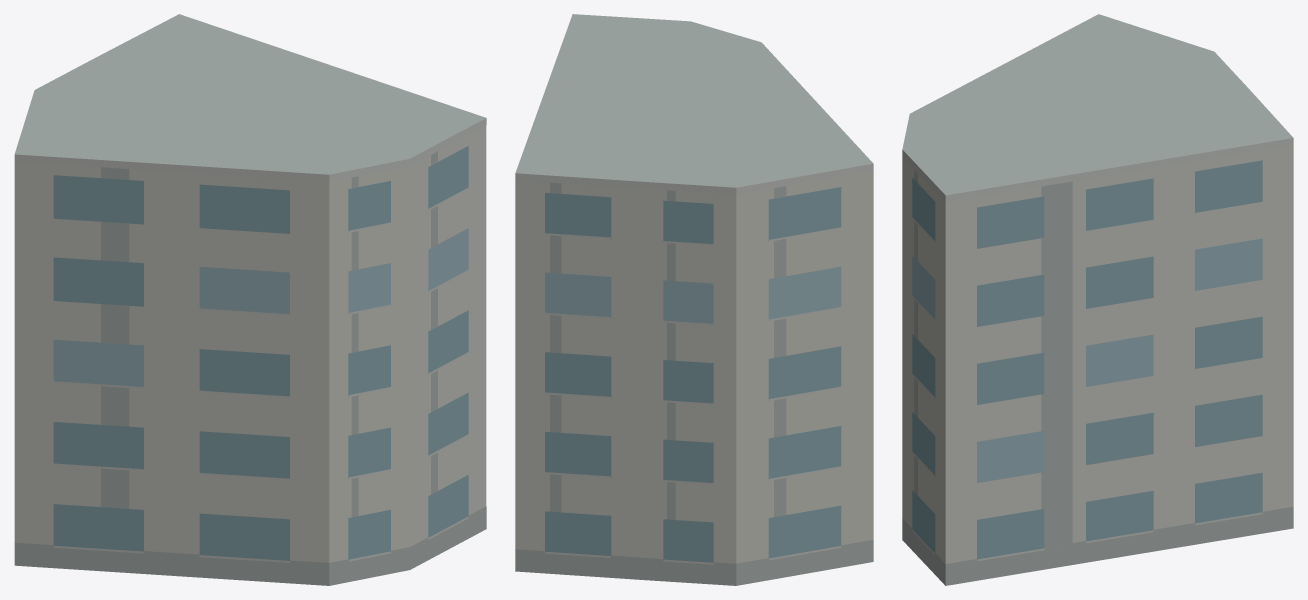
File: survey-upis-32836146.glb
3 views of the same model, side by side, from view 1: azimuth 30°, elevation 25°; view 2: azimuth 150°, elevation 25°; view 3: azimuth 270°, elevation 25° (orthographic). The views are drawn at different scales.
Parts seen in each view (by area): view 1: survey-upis-32836146.tmp; view 2: survey-upis-32836146.tmp; view 3: survey-upis-32836146.tmp.
Part boxes in pixels (left/top/right/bottom): survey-upis-32836146.tmp: left=14, top=14, right=486, bottom=585; survey-upis-32836146.tmp: left=515, top=14, right=873, bottom=585; survey-upis-32836146.tmp: left=902, top=14, right=1293, bottom=585.
Bounding box in the file's own units: 13.56 × 13.6 × 12.36.
